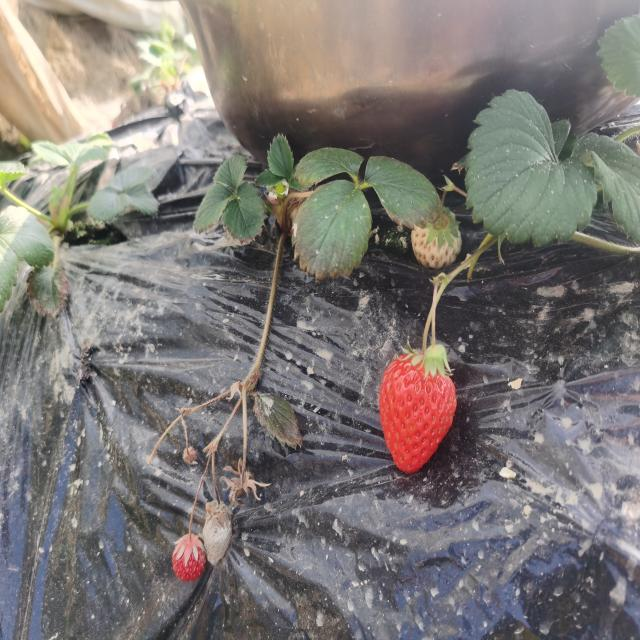stem: (422, 315, 431, 356), (189, 513, 194, 544)
strawberry: (377, 350, 457, 473), (172, 534, 207, 581)
